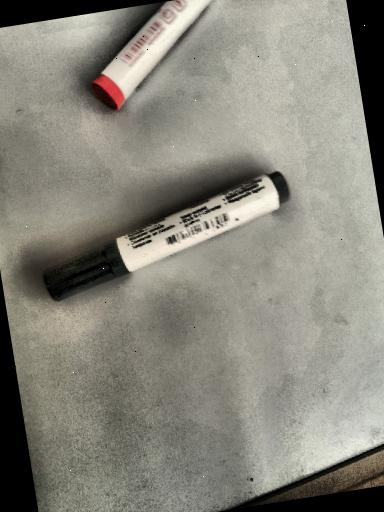marcador negro: (42, 171, 289, 301)
marcador rojo: (91, 0, 210, 109)
